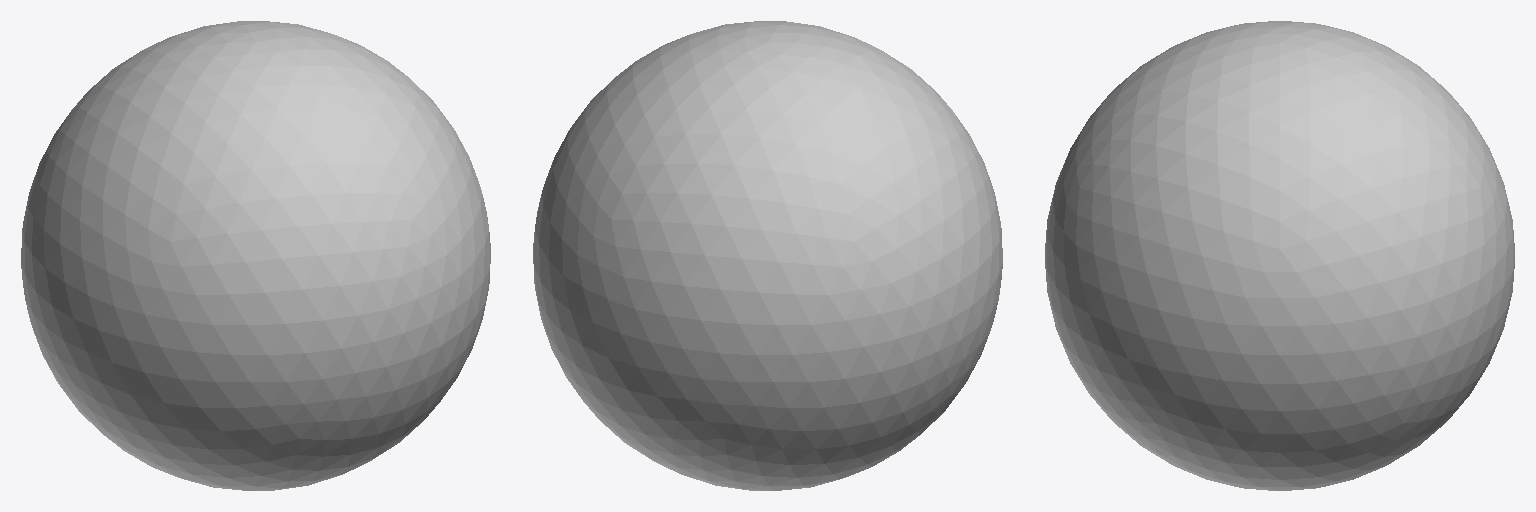
Rendered from ball.obj.
The picture shows the model from 3 angles: view 1: azimuth 30°, elevation 25°; view 2: azimuth 150°, elevation 25°; view 3: azimuth 270°, elevation 25°; orthographic projection.
Bounding box in the file's own units: 0.2598 × 0.2598 × 0.2598.